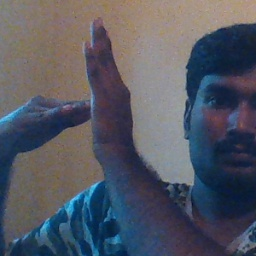Z: (11, 16, 146, 174)
